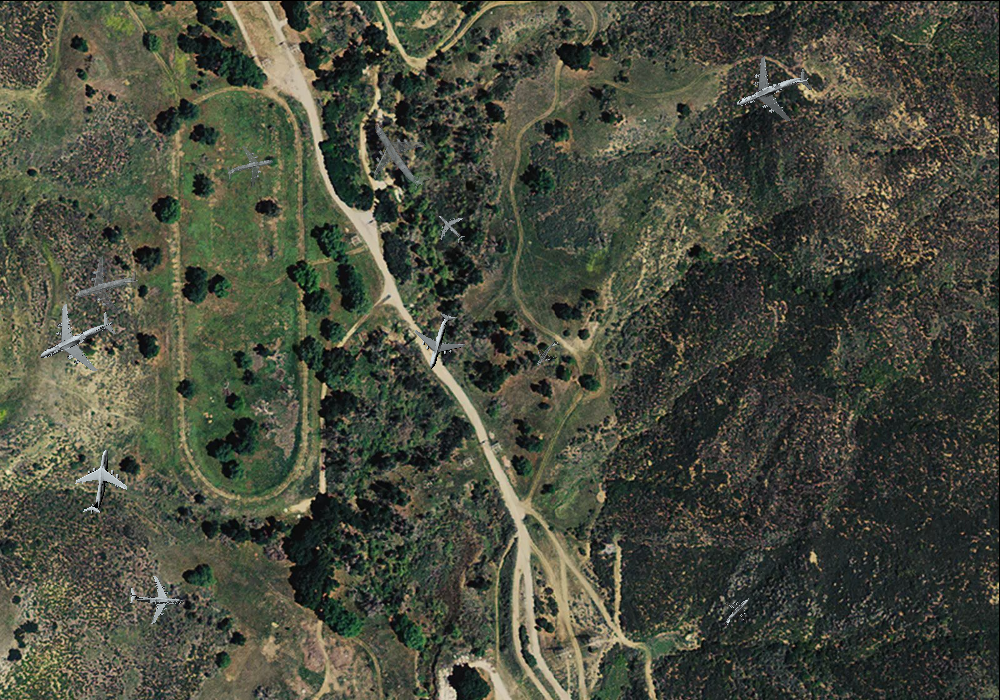plane: (24, 288, 128, 390), (348, 103, 450, 207), (723, 42, 822, 139), (65, 247, 147, 327), (64, 445, 133, 518), (405, 305, 474, 376), (221, 139, 278, 194), (127, 571, 184, 626), (713, 588, 762, 636), (427, 204, 473, 250), (526, 332, 567, 375)
